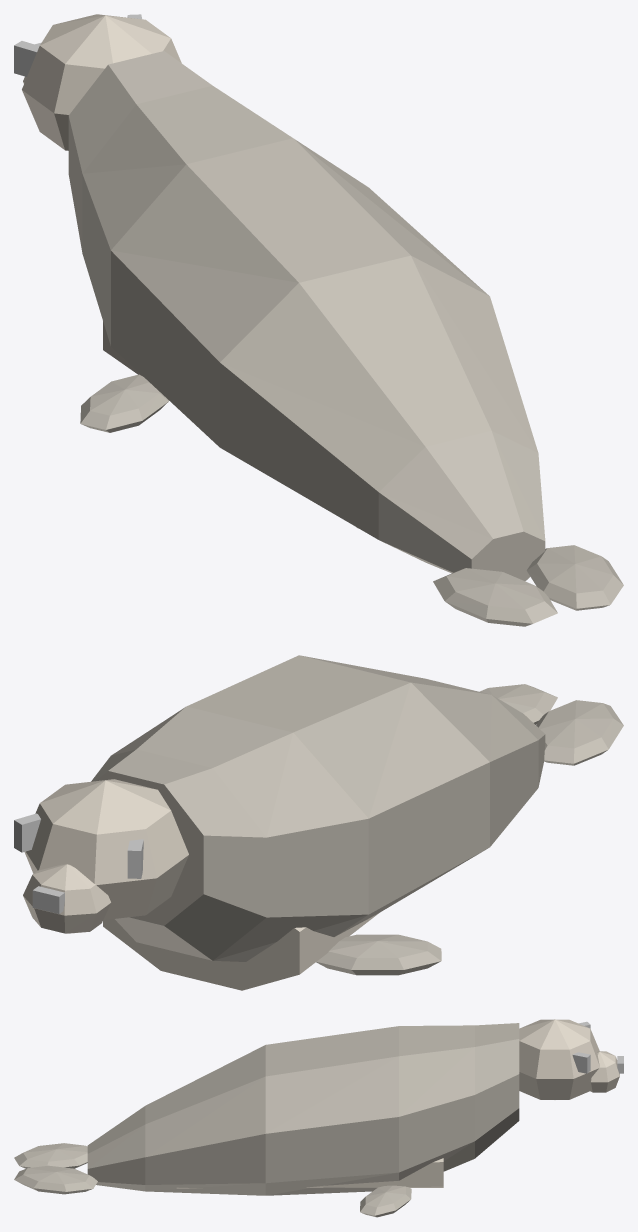
The model's file is animal_seal.obj.
3 views of the same model, one above another, from view 1: azimuth 30°, elevation 25°; view 2: azimuth 150°, elevation 25°; view 3: azimuth 270°, elevation 25° (orthographic). The views are drawn at different scales.
Visible parts, largest first — view 1: animal_seal; view 2: animal_seal; view 3: animal_seal.
Boxes of the visible parts, <box> form: animal_seal: <box>14,14,623,626</box>; animal_seal: <box>14,655,623,990</box>; animal_seal: <box>14,1019,623,1217</box>.
Bounding box in the file's own units: 0.4074 × 0.3024 × 1.03.
